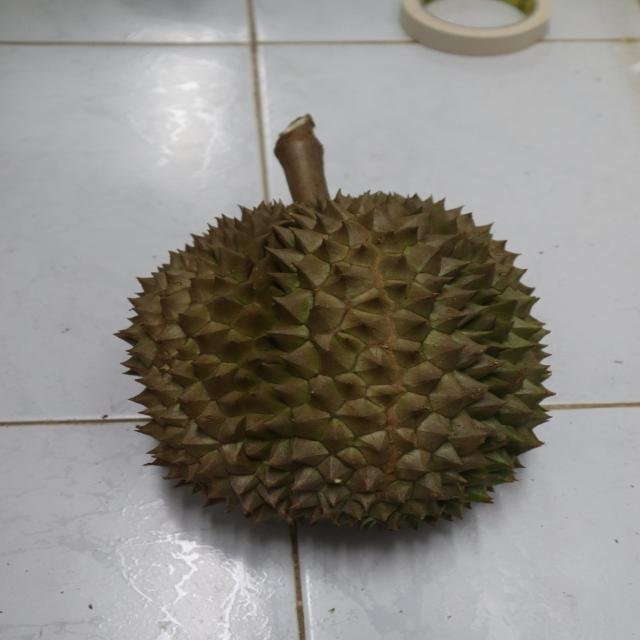mature: (127, 189, 562, 540)
